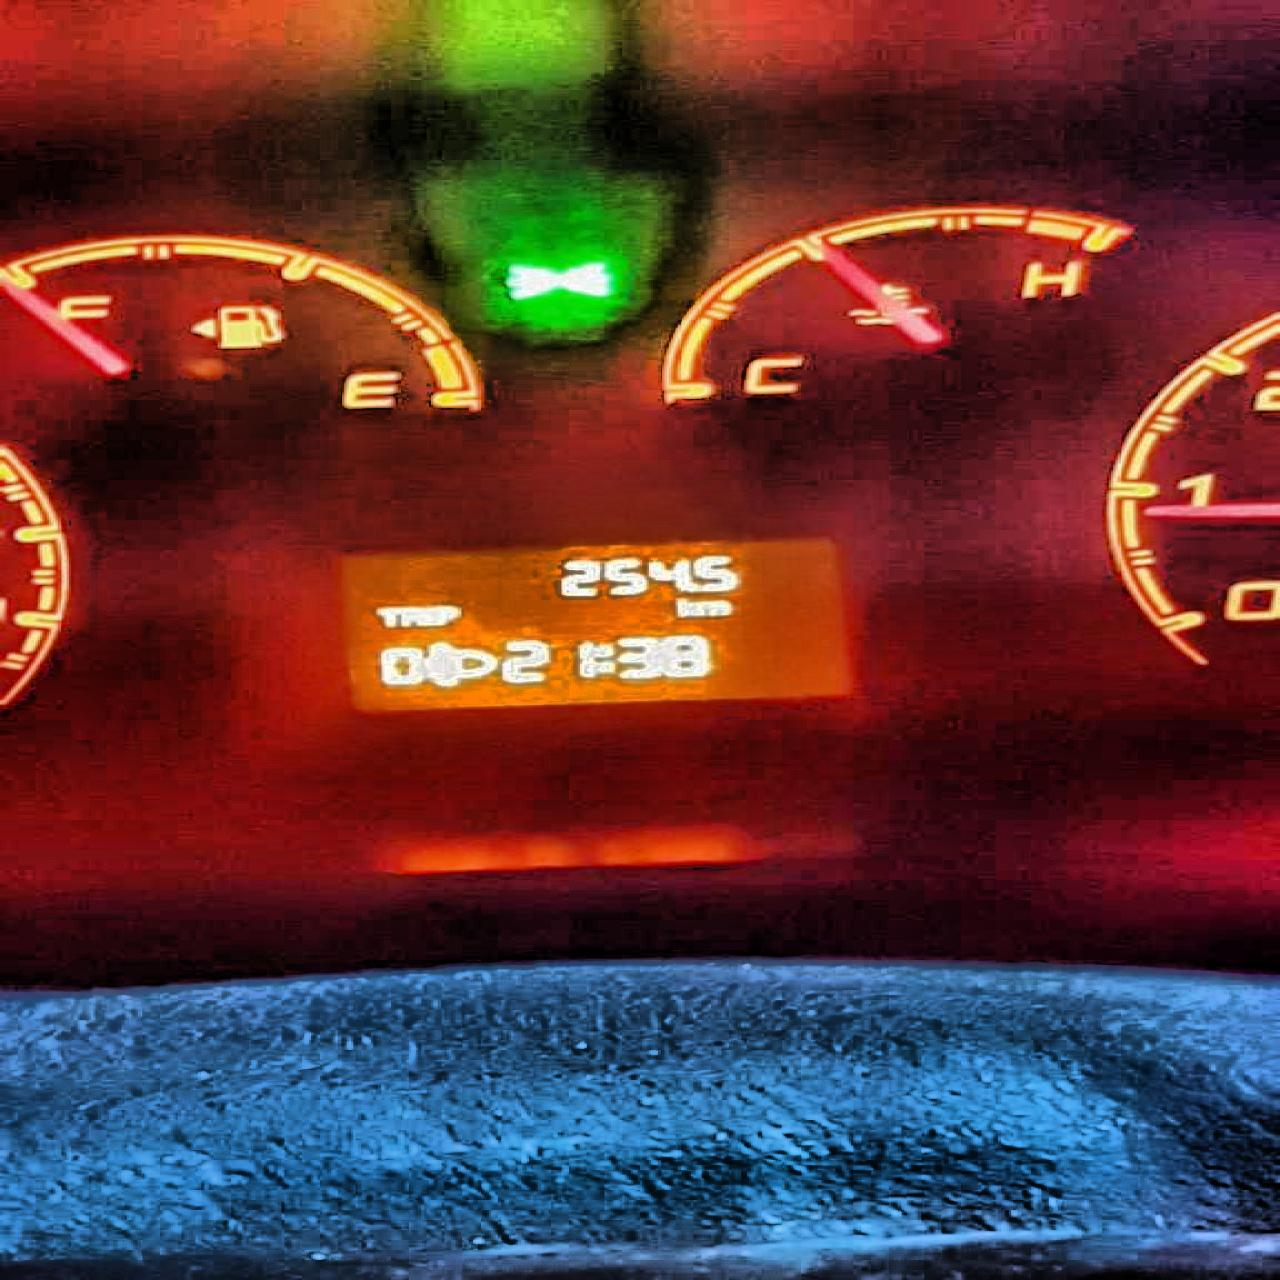0: (376, 645, 422, 685)
1: (573, 640, 593, 678)
2: (498, 639, 549, 683), (553, 558, 600, 598)
3: (615, 636, 658, 679)
4: (645, 558, 692, 592)
5: (600, 557, 647, 594), (692, 554, 737, 591)
8: (658, 633, 712, 678)
X: (697, 598, 735, 618), (593, 642, 613, 675), (372, 605, 400, 627), (673, 597, 697, 619), (400, 605, 422, 627), (436, 604, 457, 626), (422, 604, 434, 627)
odometer: (332, 535, 856, 714)
